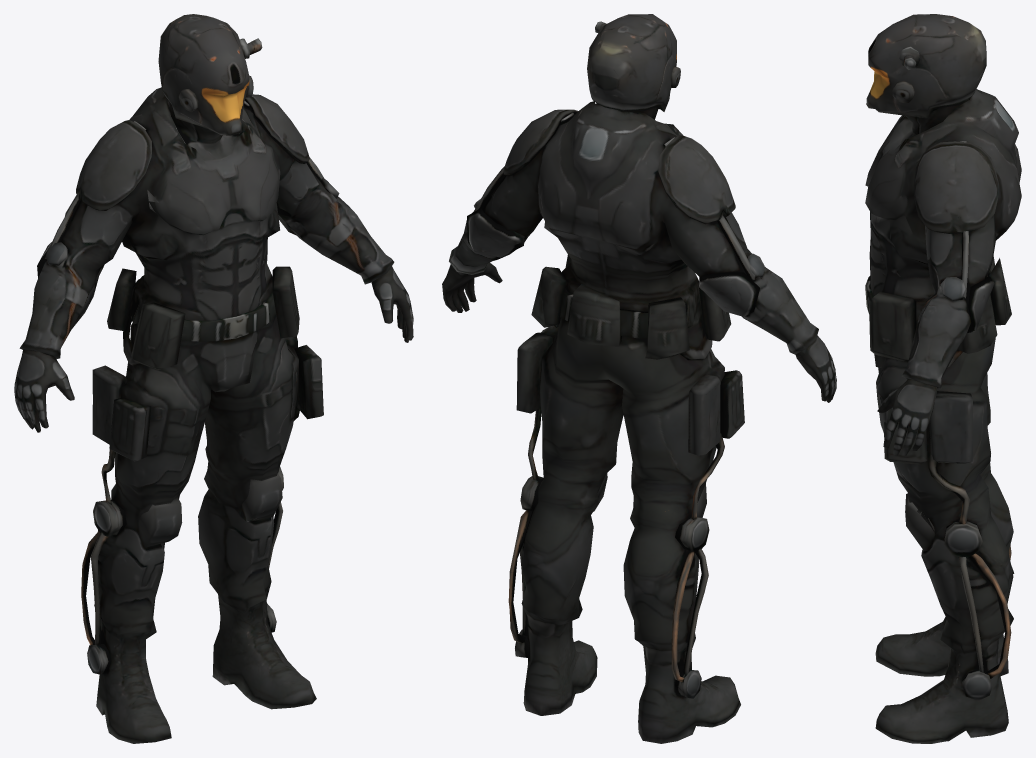
File: op-hielo.glb
3 views of the same model, side by side, from view 1: azimuth 30°, elevation 25°; view 2: azimuth 150°, elevation 25°; view 3: azimuth 270°, elevation 25° (orthographic).
Visible parts, largest first — view 1: geometry_0; view 2: geometry_0; view 3: geometry_0.
Boxes of the visible parts, x1,y1,x2,y2 form: geometry_0: (14,14,413,743); geometry_0: (442,14,836,743); geometry_0: (865,14,1021,743).
Bounding box in the file's own units: 0.5935 × 1 × 0.2094.
Materials: 1 (1 with a texture image).
